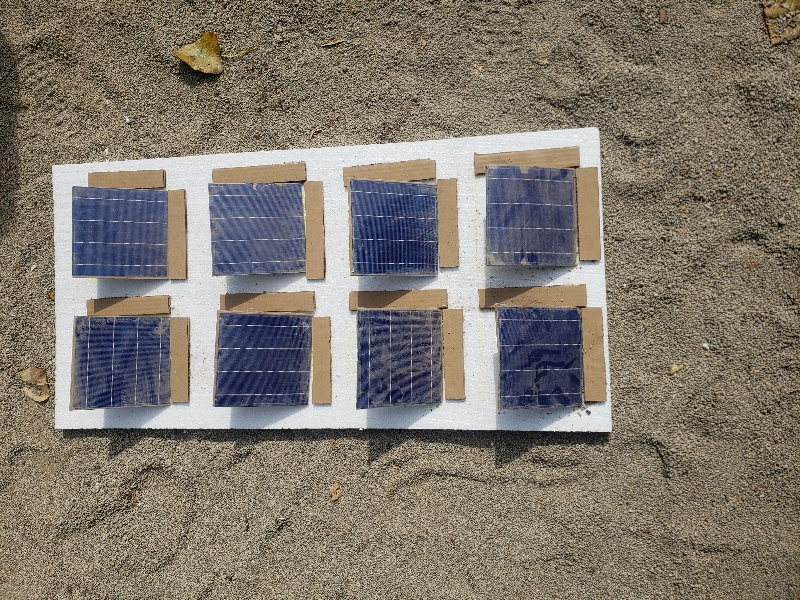clean: (219, 313, 315, 409)
dirty: (485, 163, 581, 272), (71, 315, 173, 407), (495, 309, 586, 410), (70, 188, 170, 279), (208, 184, 306, 274), (357, 312, 445, 407)
